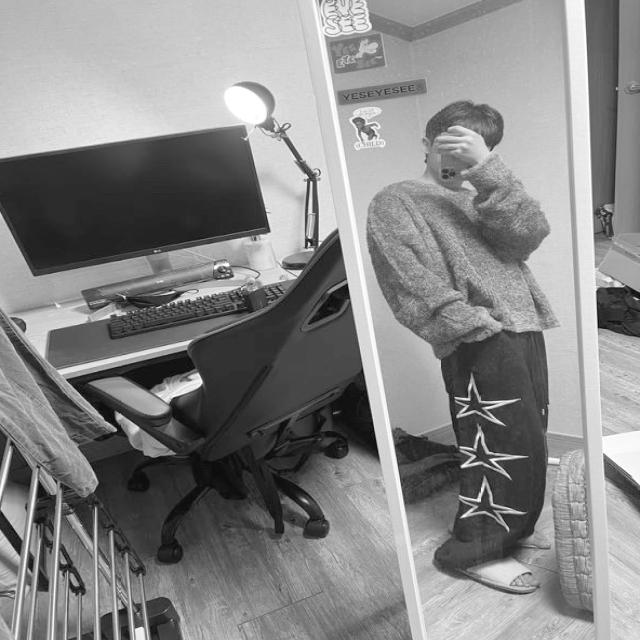sweater: (360, 150, 560, 360)
trainingpants: (432, 325, 548, 575)
